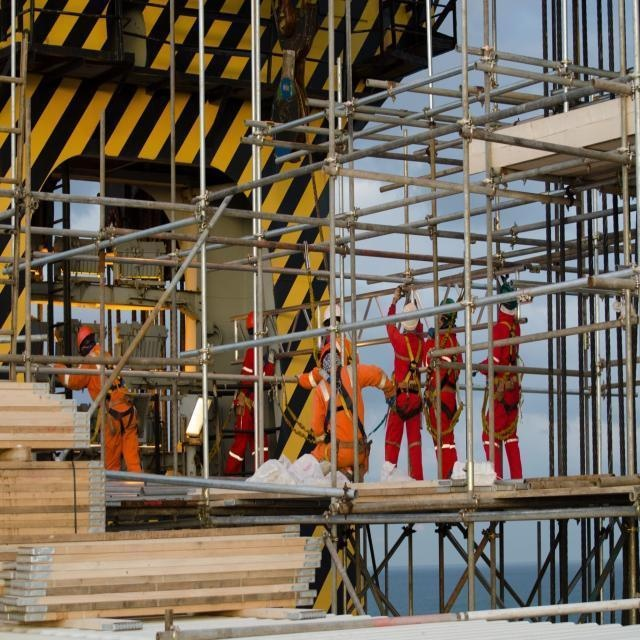Arnes_seguridad: (88, 351, 141, 435), (322, 358, 360, 441), (427, 330, 462, 418), (494, 317, 520, 415), (395, 327, 428, 402)
